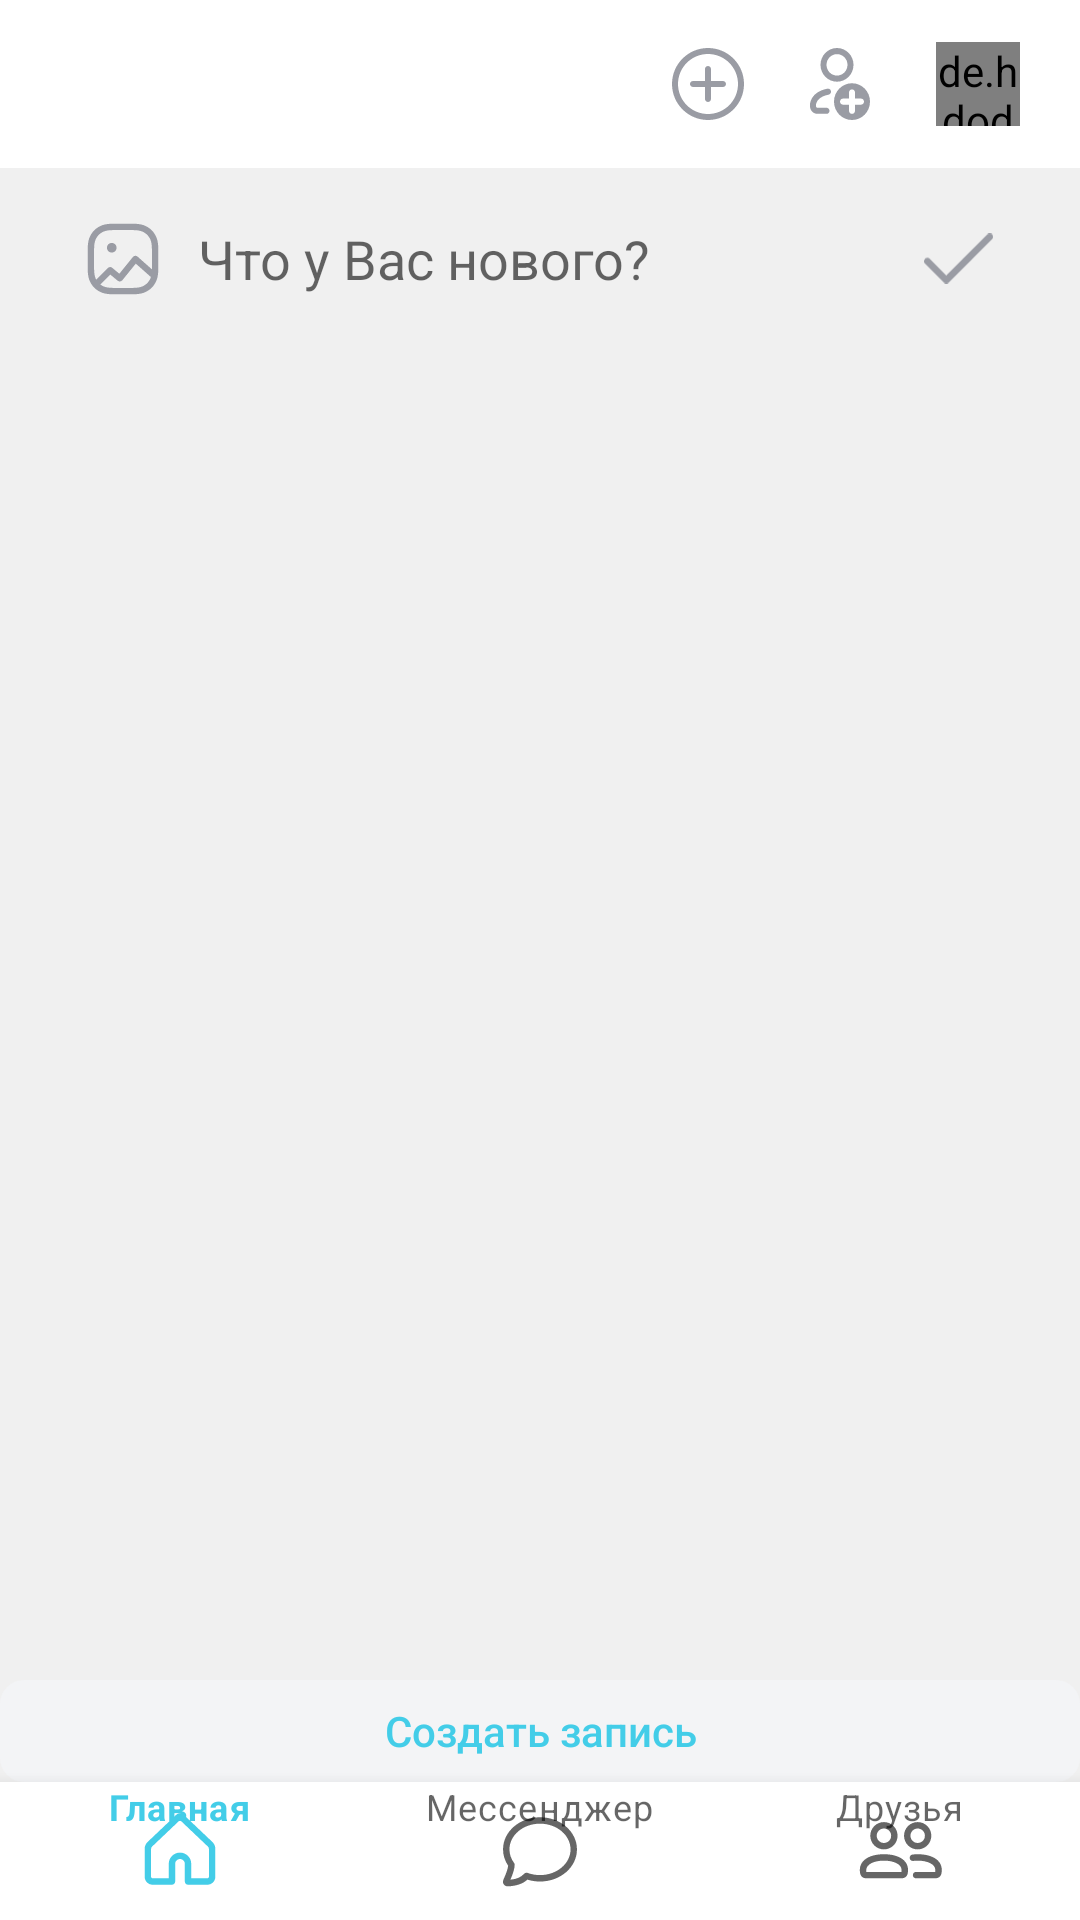

Where to tap for icons on this 1080×1920 app screen, as [x,y]:
accept: [958,258]
add friend: [840,84]
add post: [708,84]
